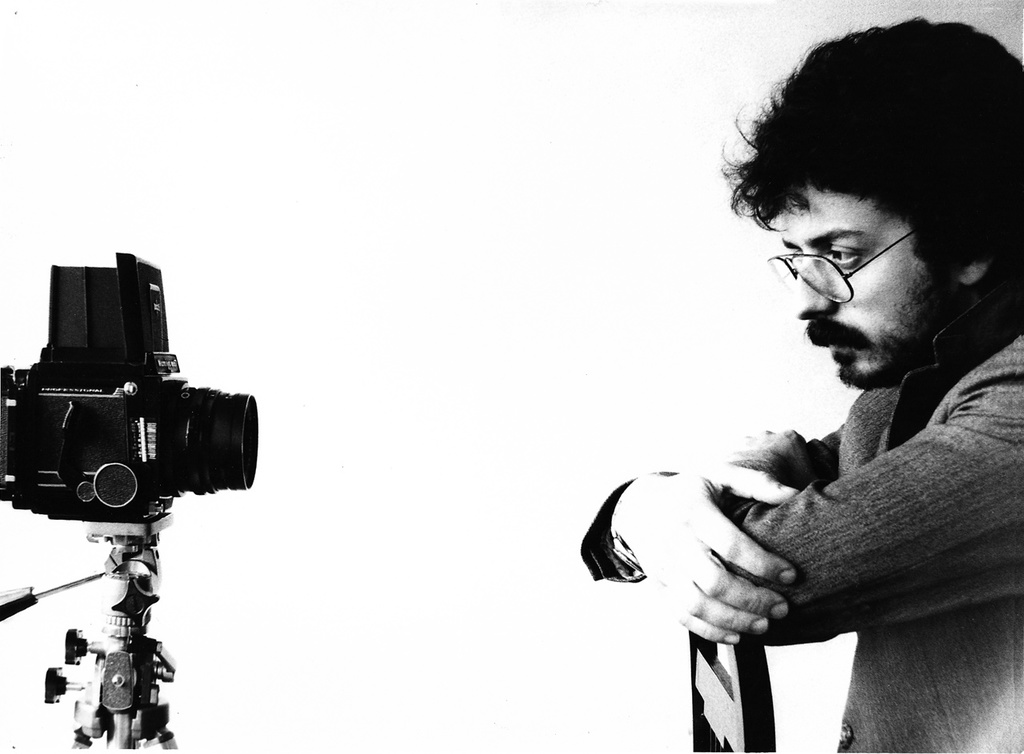Human_hand: (608, 466, 816, 632), (730, 428, 774, 450)
